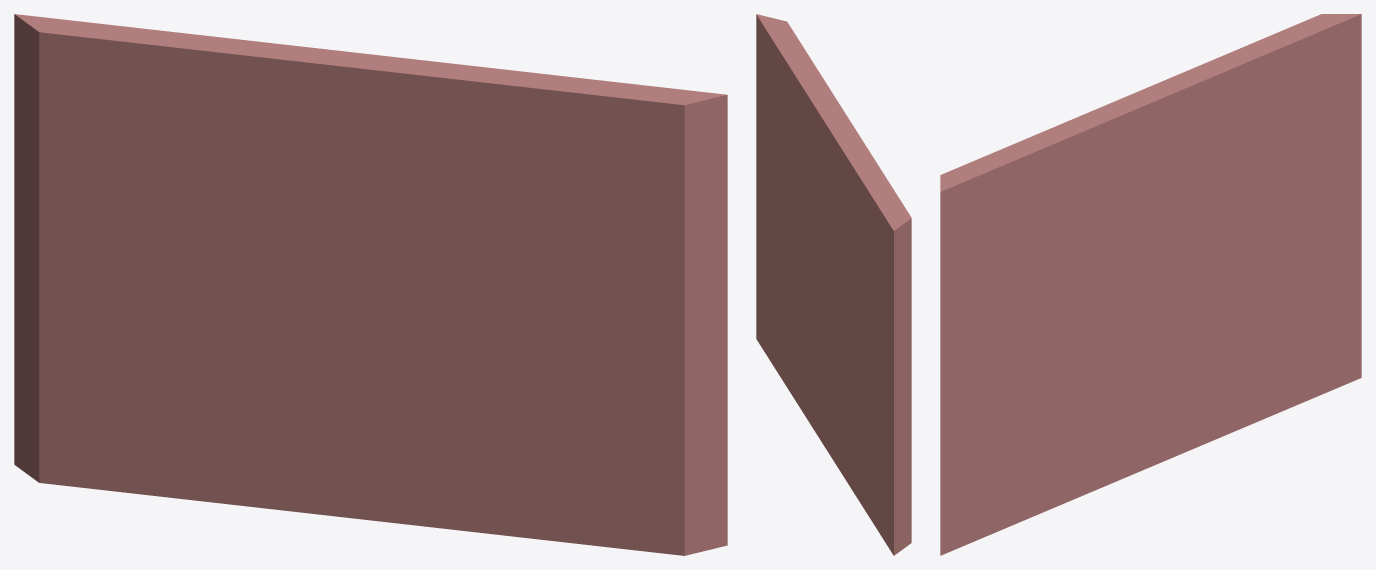
Rendered from wall_4x4_diagonal.fbx.
The picture shows the model from 3 angles, left to right: view 1: azimuth 30°, elevation 25°; view 2: azimuth 150°, elevation 25°; view 3: azimuth 270°, elevation 25°; orthographic projection. The views are drawn at different scales.
Visible parts, largest first — view 1: Cube; view 2: Cube; view 3: Cube.
Boxes of the visible parts, x1,y1,x2,y2 form: Cube: [14, 14, 727, 555]; Cube: [756, 14, 911, 555]; Cube: [940, 14, 1361, 555].
Size of the model in its own units: 420 by 400 by 420.
